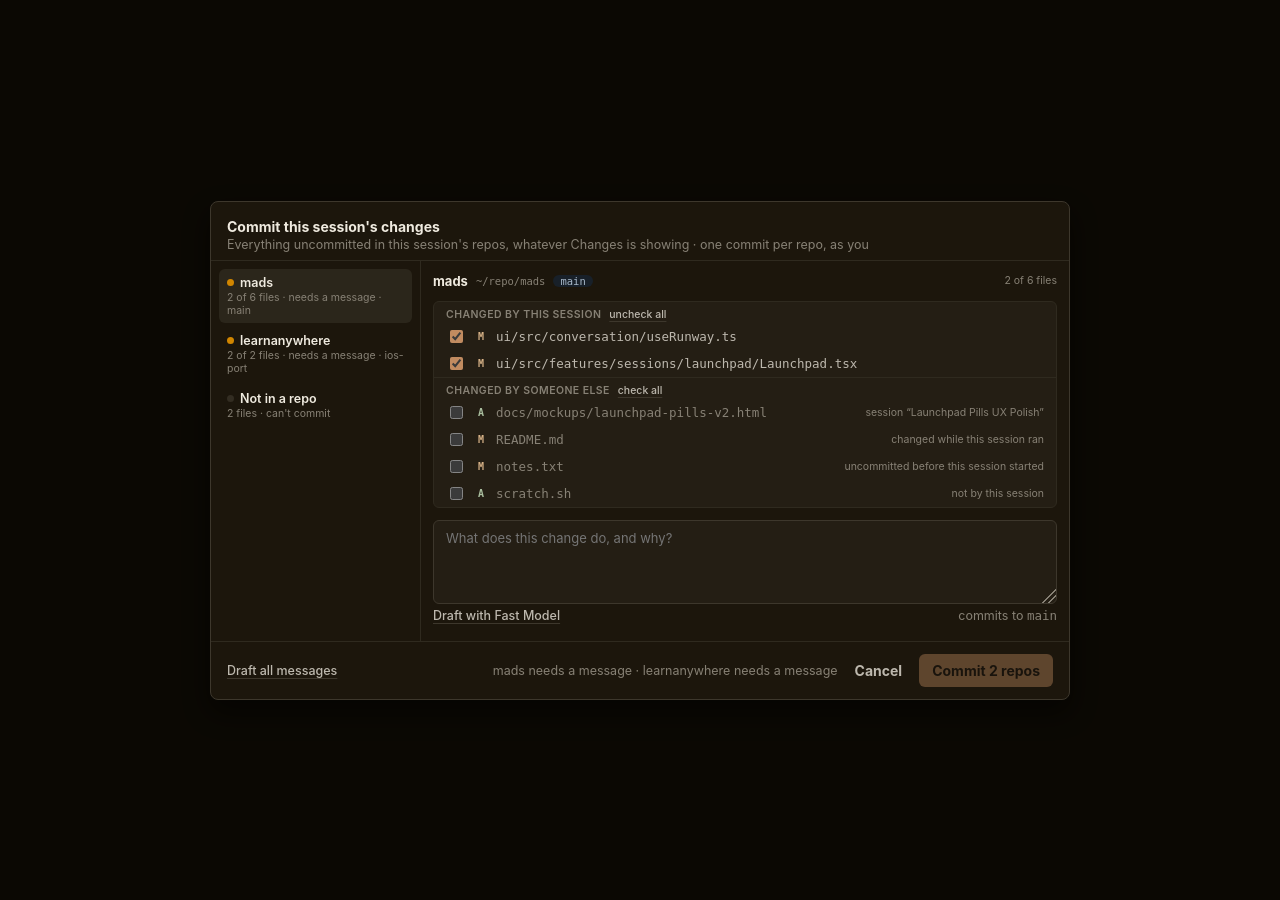
Test: CommitDialog — several repos (D2, mockup §1 B) › keeps one message per repo, and the dots and footer say which are ready
Type "ui: runway" into the text box named "Commit message for mads". click: (745, 562)
box: [433,520,1057,604]
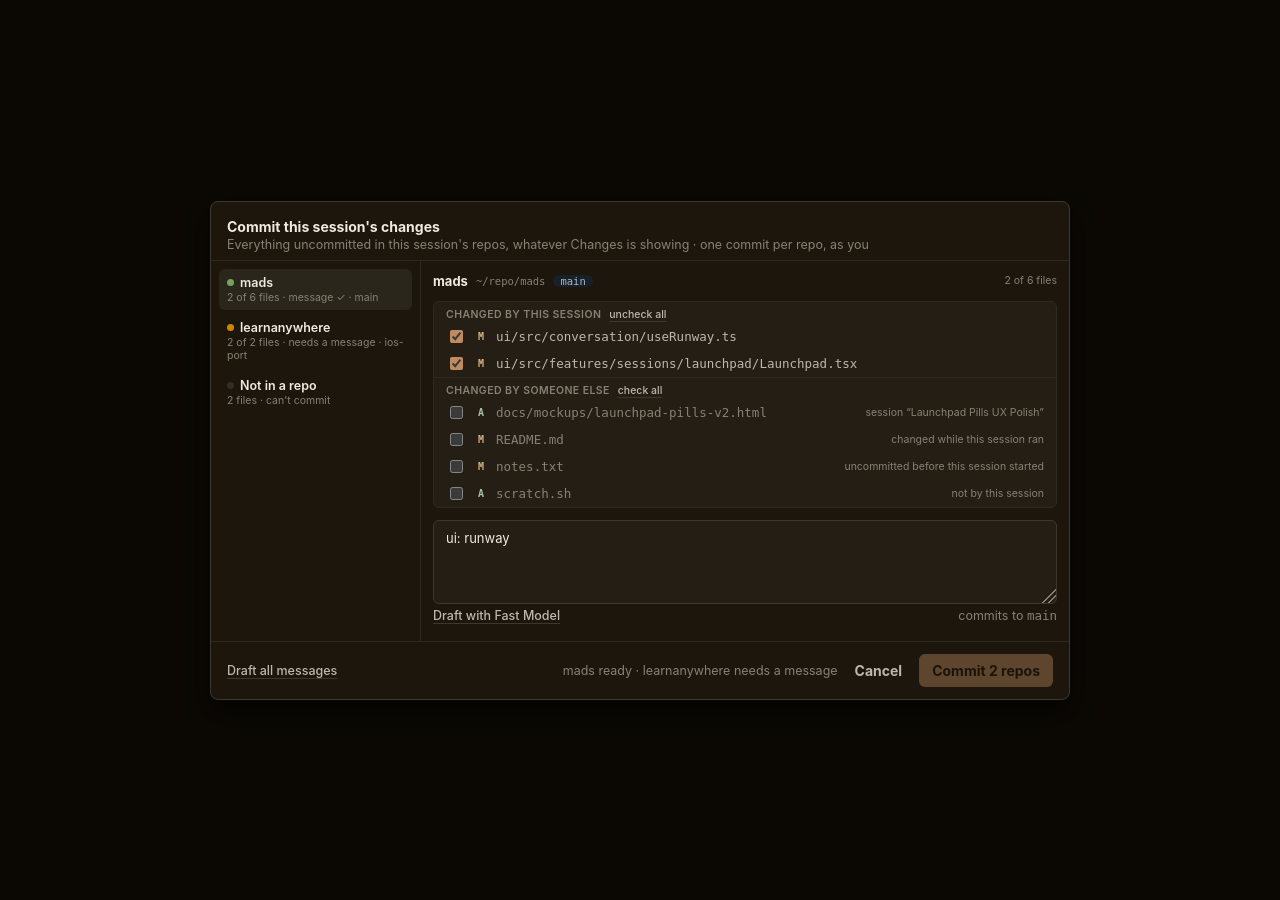
Expected: the button "Commit 2 repos" is disabled, [919,654,1053,686]
Expected: the button "mads 2 of 6 files · message ✓ · main" is shown, [219,268,412,310]
Expected: the text "mads ready · learnanywhere needs a message" is shown, [563,662,838,678]
Click the button "learnanywhere 2 of 2 files · needs a message · ios-port". click: click(316, 340)
box: [219,314,412,368]
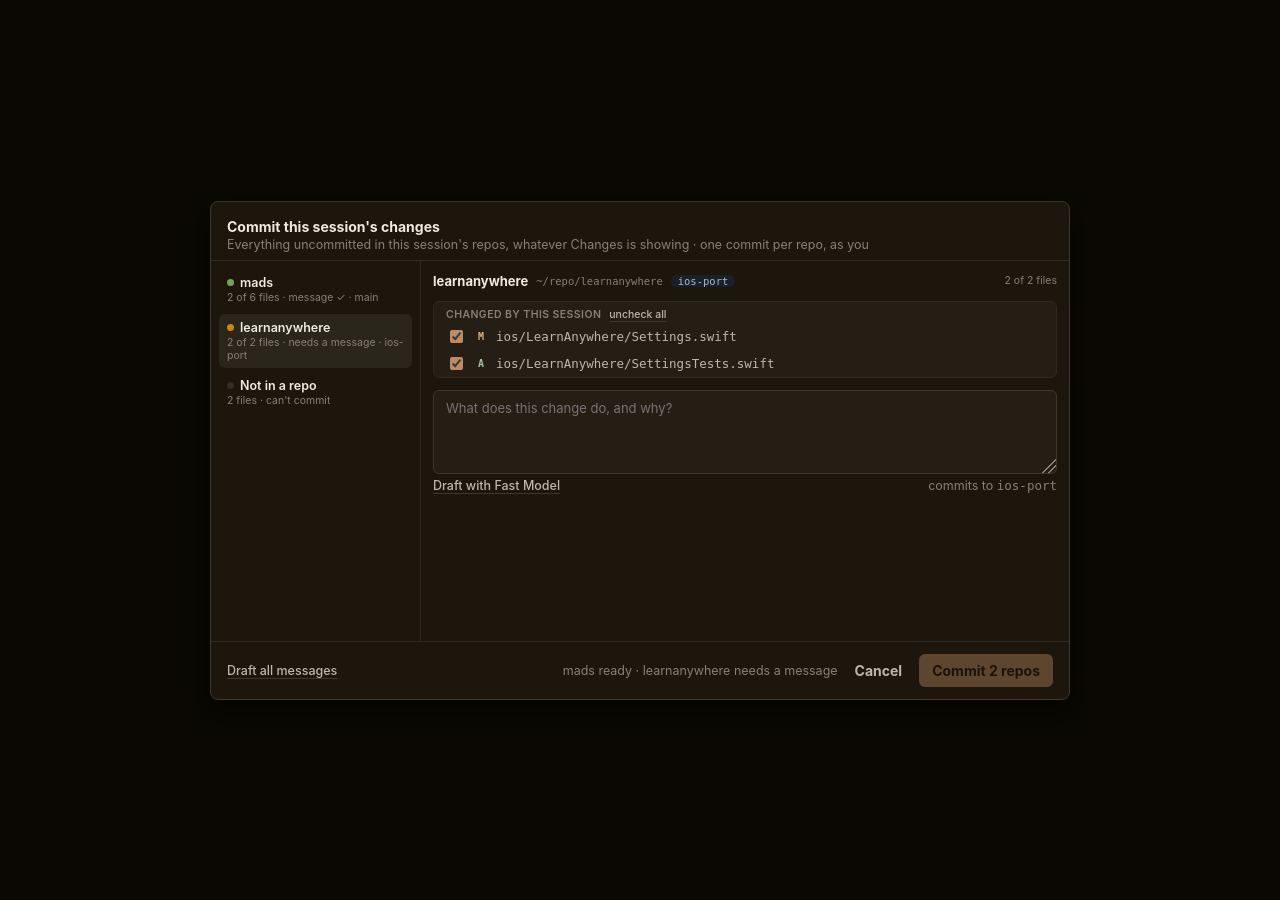
Expected: the text box named "Commit message for learnanywhere" is empty, [433,390,1057,474]
Click the button "uncheck all". click: click(638, 314)
box: [609,308,666,320]
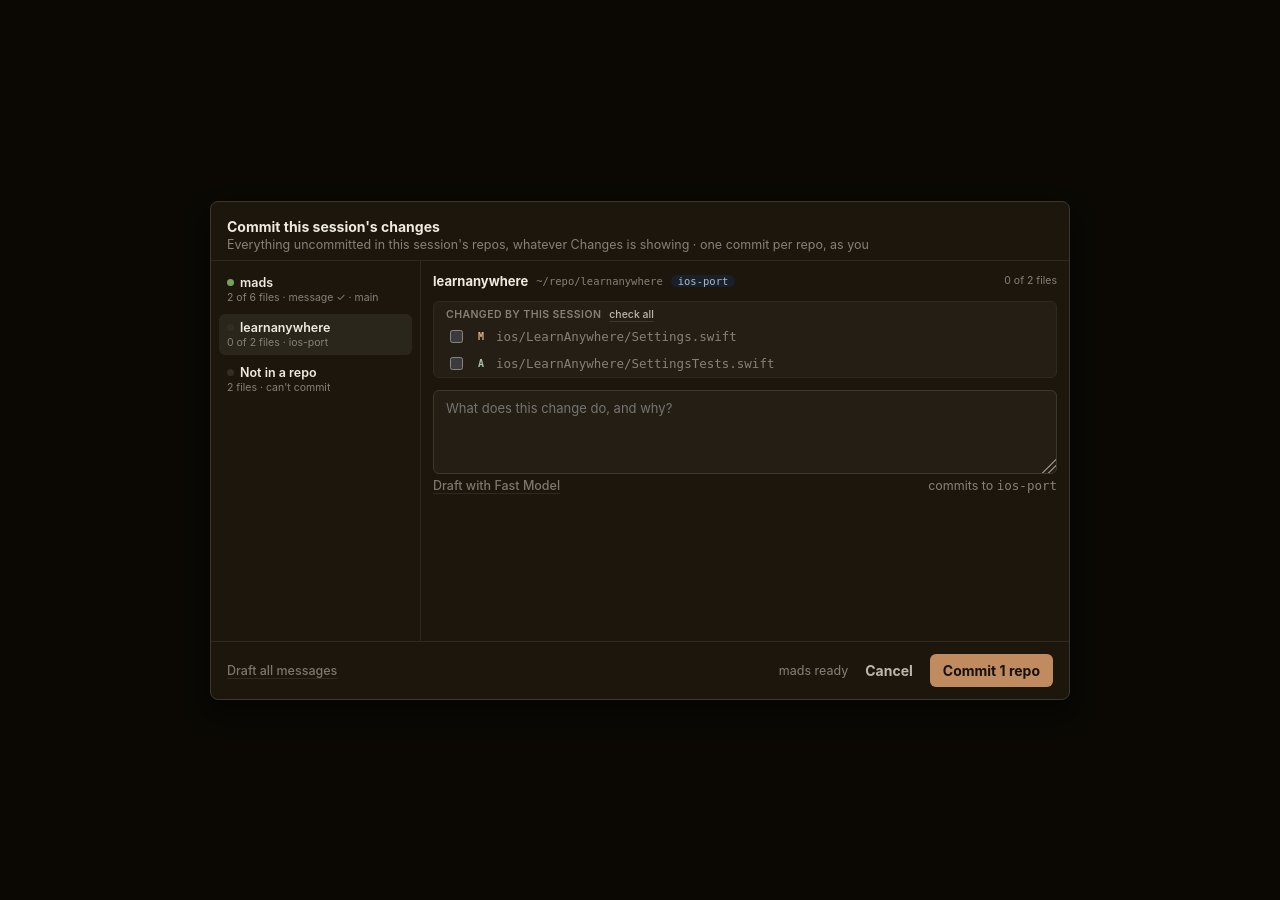
Expected: the button "Commit 1 repo" is shown, [930,654,1053,686]
Expected: the button "Commit 1 repo" is enabled, [930,654,1053,686]
